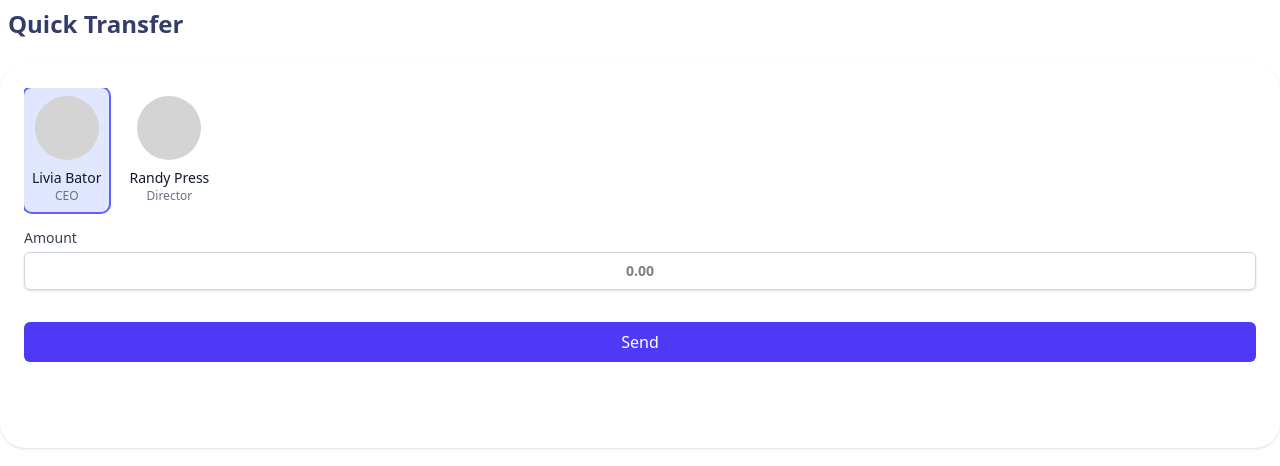
Test case: QuickTransfer › does not allow non-numeric input in amount field except for a single decimal
Type "abc12.3.4xyz" into the field labelled "Amount".
click(640, 271); type("abc12.3.4xyz")  # box x1=24 y1=252 x2=1256 y2=290
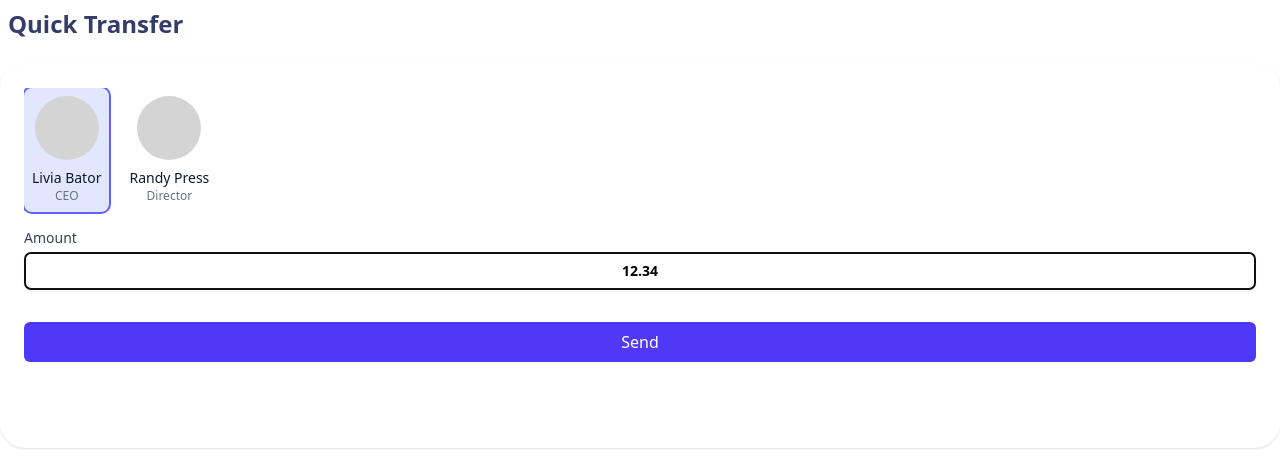
Check: the field labelled "Amount" holds "12.34", box x1=24 y1=252 x2=1256 y2=290
